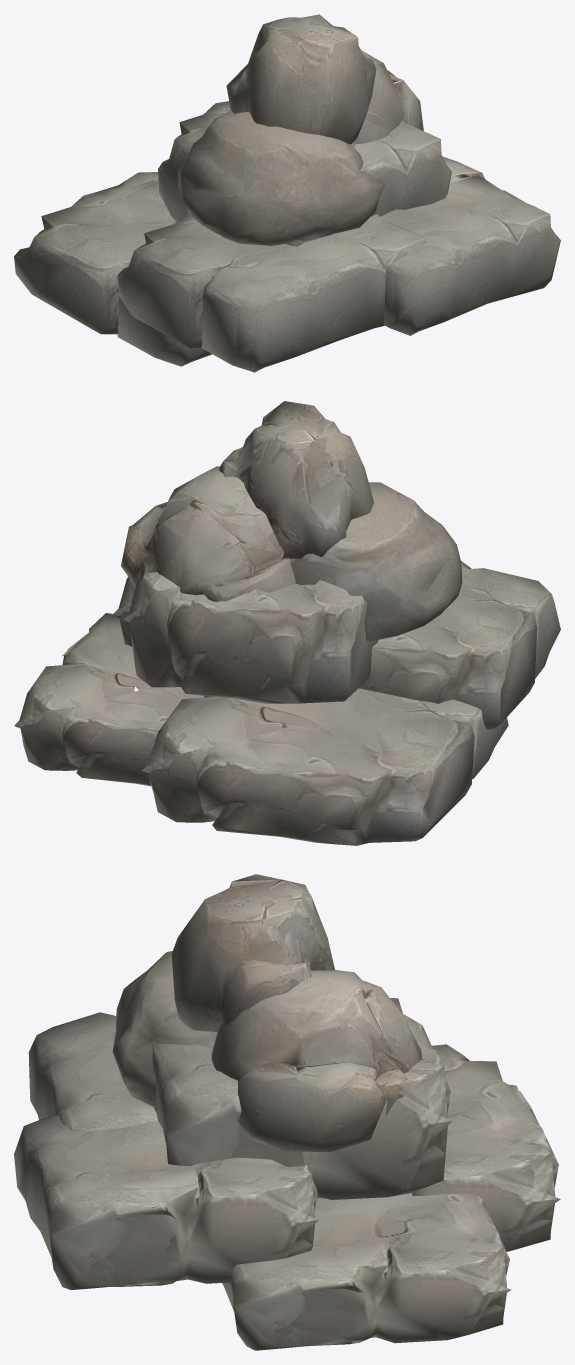
Rendered from cliff_mass_b.gltf.
3 renders of one model, top to bottom at view 1: azimuth 30°, elevation 25°; view 2: azimuth 150°, elevation 25°; view 3: azimuth 270°, elevation 25°, orthographic. The views are drawn at different scales.
Parts seen in each view (by area): view 1: cliff_mass_b; view 2: cliff_mass_b; view 3: cliff_mass_b.
Boxes of the visible parts, <box> form: cliff_mass_b: <box>14,14,560,372</box>; cliff_mass_b: <box>14,401,560,845</box>; cliff_mass_b: <box>14,874,560,1350</box>.
Size of the model in its own units: 2.27 by 1.56 by 2.22.
Materials: 1 (1 with a texture image).
